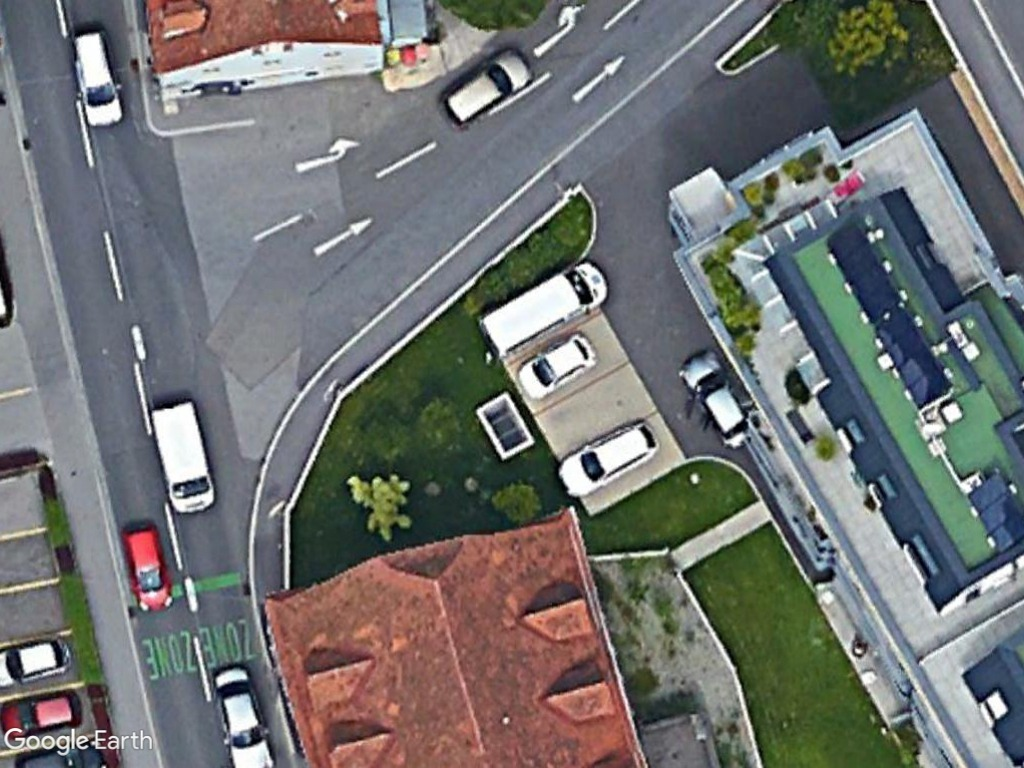car: (549, 416, 661, 505), (437, 39, 541, 134), (670, 347, 756, 454), (208, 662, 279, 768), (65, 26, 128, 132), (0, 678, 90, 747), (514, 328, 595, 404), (118, 519, 175, 619)
van: (476, 255, 612, 362), (144, 398, 220, 519)
